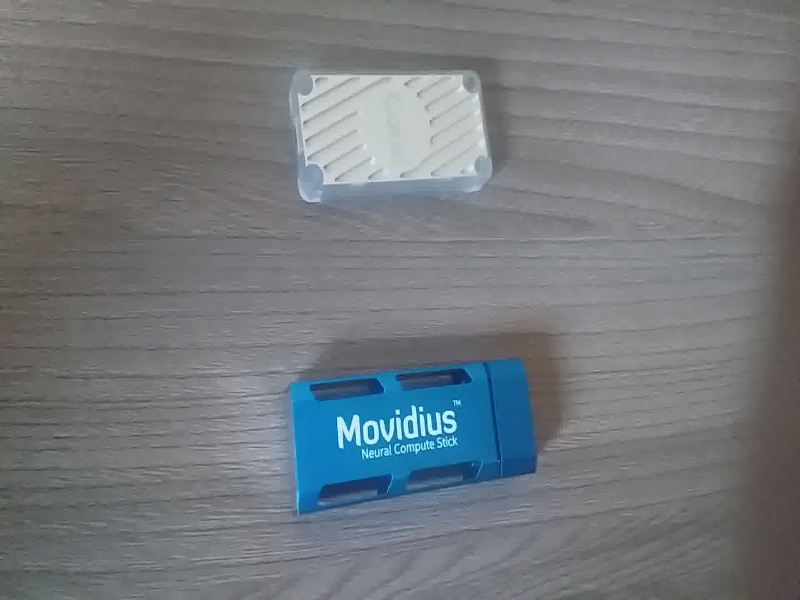coral: (279, 60, 513, 224)
movidius: (282, 348, 553, 526)
